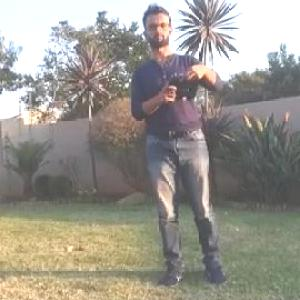follow: (125, 0, 236, 295)
